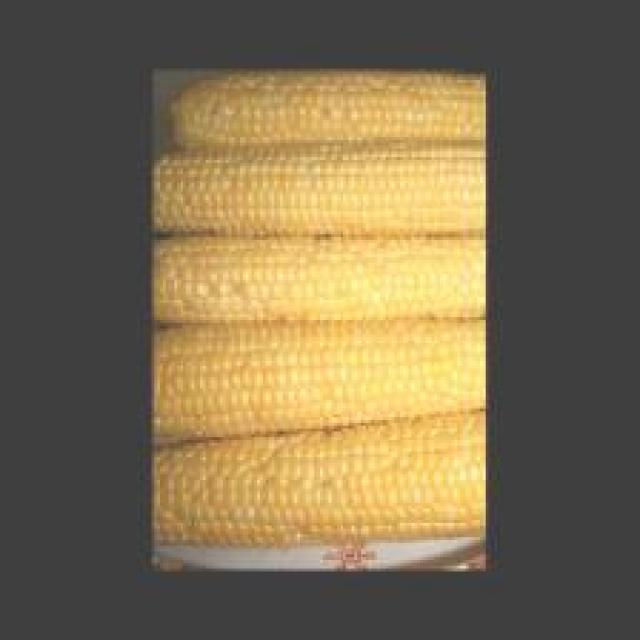corn: (151, 69, 491, 571)
